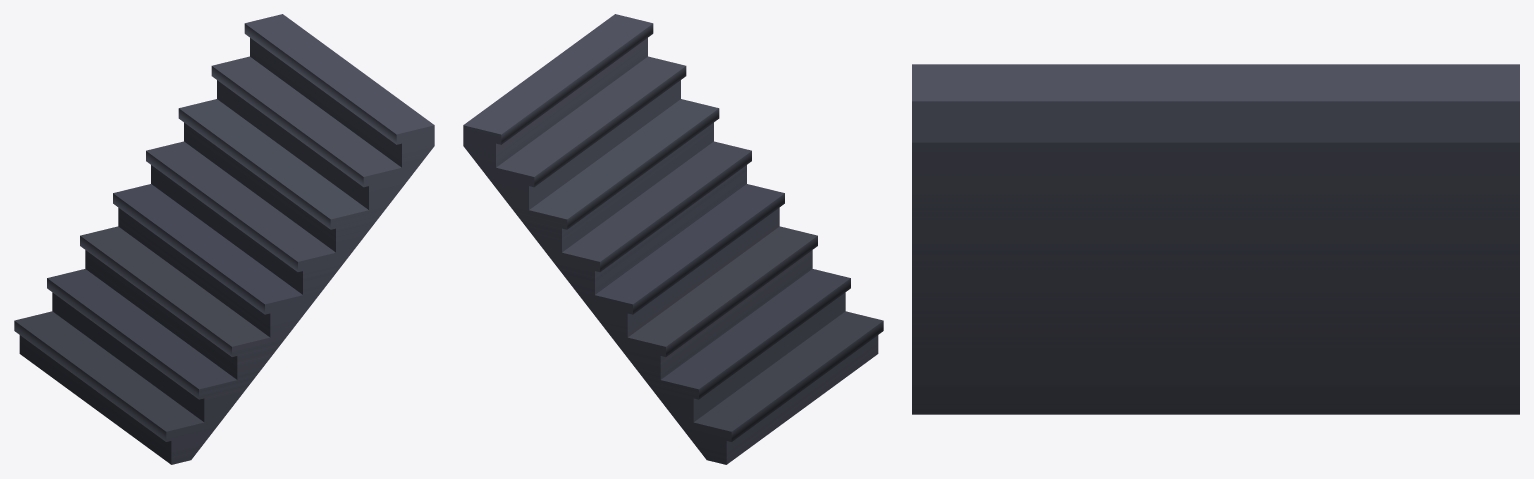
File: stairs-wide-stone.glb
3 renders of one model, left to right at view 1: azimuth 30°, elevation 25°; view 2: azimuth 150°, elevation 25°; view 3: azimuth 270°, elevation 25°, orthographic. The views are drawn at different scales.
Parts seen in each view (by area): view 1: stairs-wide-stone; view 2: stairs-wide-stone; view 3: stairs-wide-stone.
Part boxes in pixels (left/top/right/bottom): stairs-wide-stone: left=14, top=14, right=434, bottom=464; stairs-wide-stone: left=463, top=14, right=883, bottom=464; stairs-wide-stone: left=912, top=64, right=1519, bottom=414.
Bounding box in the file's own units: 1.02 × 1 × 1.
Materials: 1 (1 with a texture image).
